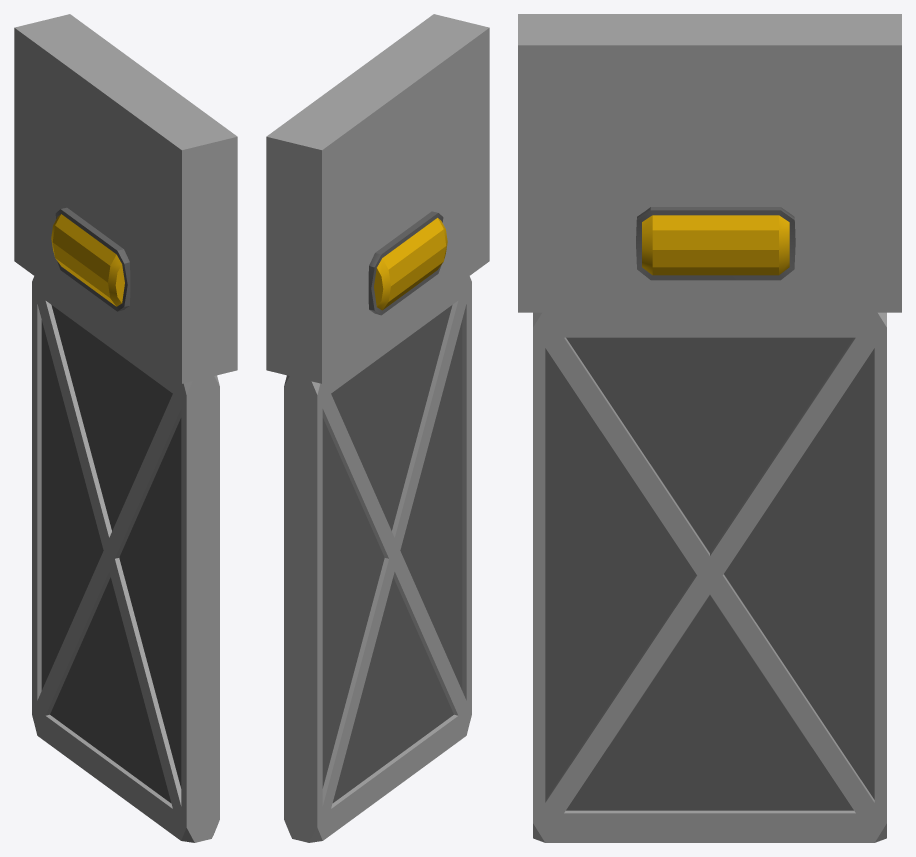
The model's file is GateDoor.fbx.
The picture shows the model from 3 angles, left to right: view 1: azimuth 30°, elevation 25°; view 2: azimuth 150°, elevation 25°; view 3: azimuth 270°, elevation 25°; orthographic projection. The views are drawn at different scales.
Visible parts, largest first — view 1: gate, frame, pCylinder1; view 2: gate, frame, pCylinder1; view 3: gate, frame, pCylinder2.
Part boxes in pixels (x1,y1,x2,y2): gate: [32, 276, 219, 842]; frame: [14, 14, 237, 383]; pCylinder1: [51, 207, 130, 311]; gate: [284, 276, 471, 842]; frame: [266, 14, 489, 383]; pCylinder1: [368, 211, 447, 315]; gate: [533, 312, 886, 842]; frame: [518, 14, 901, 312]; pCylinder2: [636, 207, 795, 280].
Bounding box in the file's own units: 0.3847 × 3.01 × 1.3.
